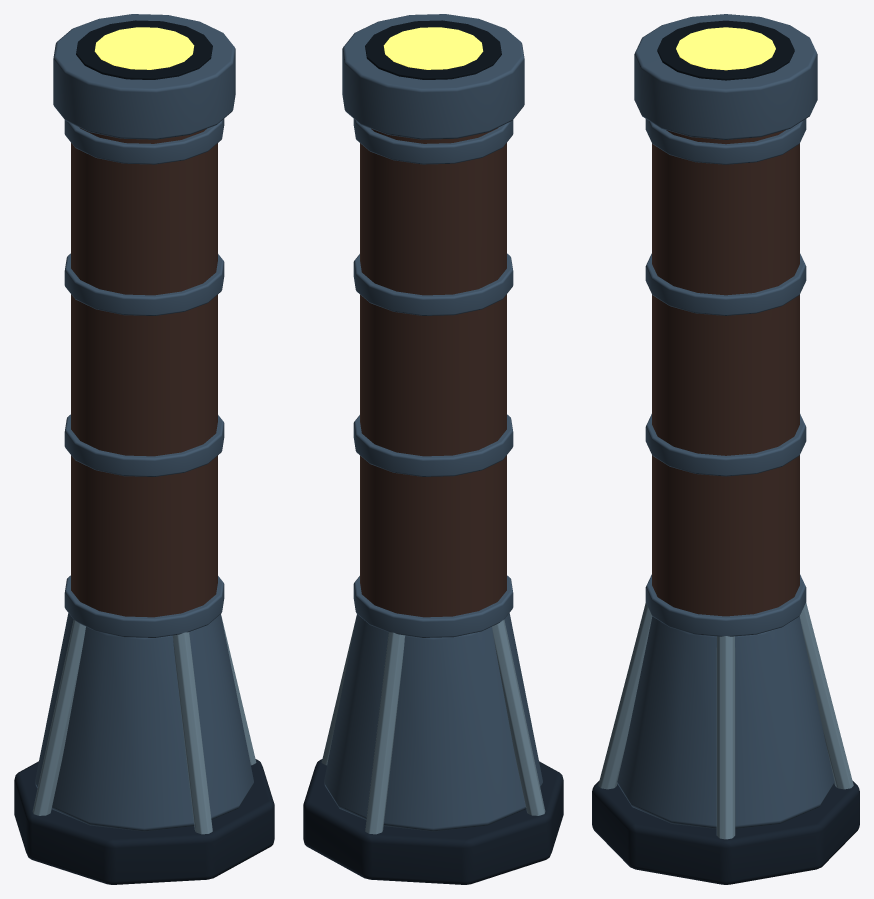
The model's file is foundry_stack.fbx.
3 views of the same model, side by side, from view 1: azimuth 30°, elevation 25°; view 2: azimuth 150°, elevation 25°; view 3: azimuth 270°, elevation 25° (orthographic).
Visible parts, largest first — view 1: foundry_stack_Geometry; view 2: foundry_stack_Geometry; view 3: foundry_stack_Geometry.
Part boxes in pixels (bbox=[...]): foundry_stack_Geometry: bbox=[14, 14, 274, 884]; foundry_stack_Geometry: bbox=[303, 14, 563, 884]; foundry_stack_Geometry: bbox=[592, 14, 859, 884].
Size of the model in its own units: 2.57 by 8.28 by 2.57.
